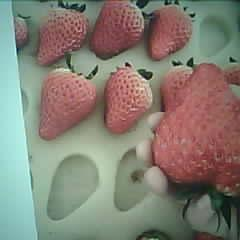straw-ripe: (155, 65, 240, 190), (38, 71, 95, 134), (104, 68, 150, 130), (92, 0, 143, 54), (38, 9, 85, 65), (149, 6, 191, 59)
